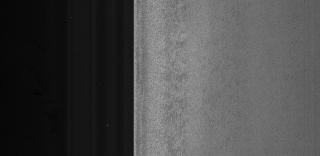silk spot: (155, 19, 193, 156)
